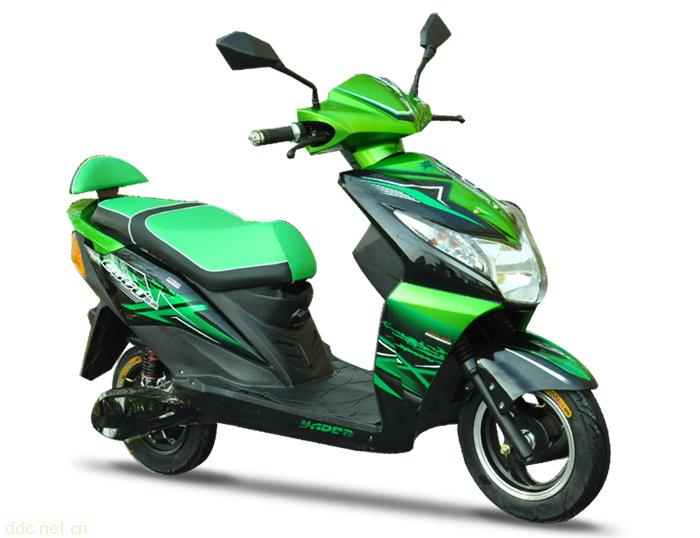MNV: (63, 33, 612, 523)
